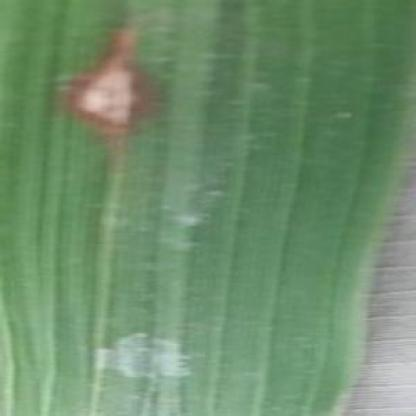Rice blast: (64, 21, 152, 147)
